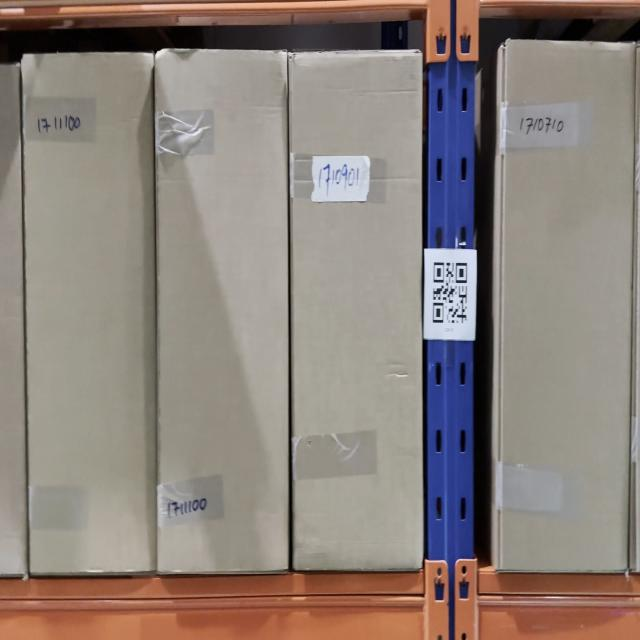box: (501, 40, 630, 574), (158, 53, 289, 573), (293, 58, 421, 572), (29, 59, 155, 573)
